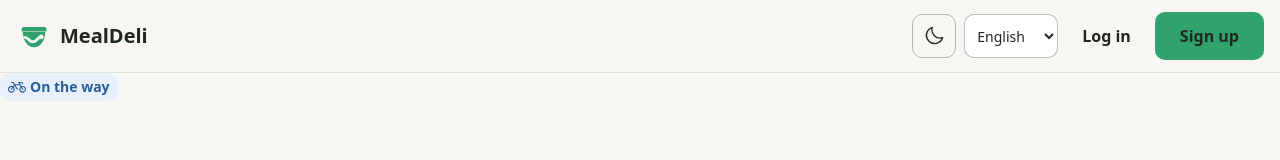
Test case: translated application flows › offers live language switching in the guest shell
Select "简体中文" in the dropdown at x=1011, y=36, box [964,14,1058,58]
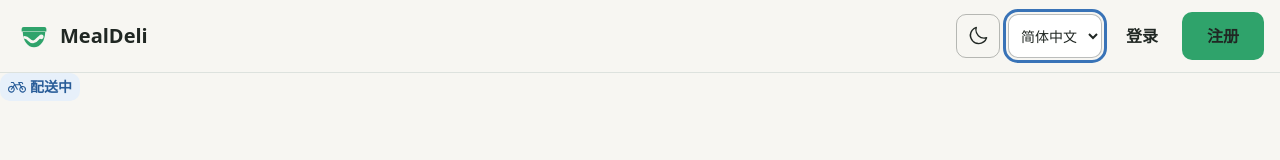
Result: the text "配送中" is shown at [0,73,80,101]
Select "日本語" in the dropdown at x=1055, y=36, box [1008,14,1102,58]
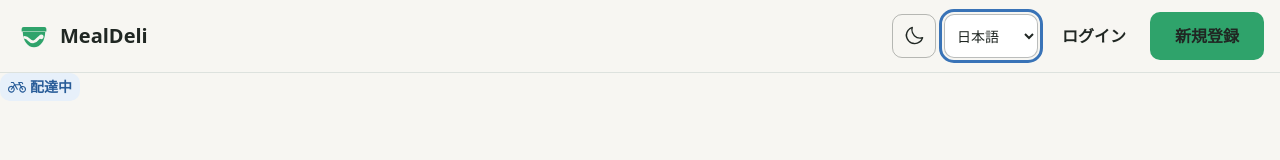
Result: the text "配達中" is shown at [0,73,80,101]
